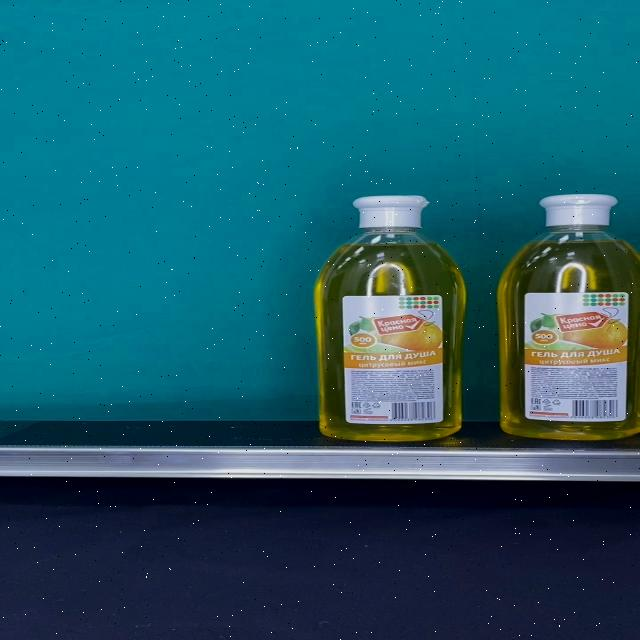Bottle: (314, 195, 468, 440), (495, 194, 640, 440)
Cap: (537, 194, 618, 227), (351, 195, 429, 229)
